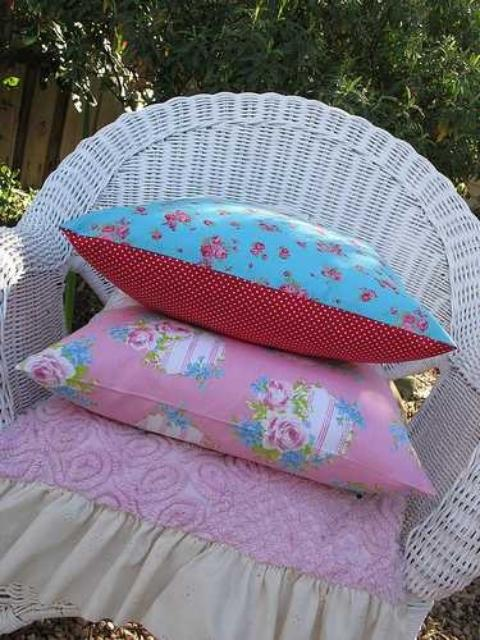pillow: (14, 295, 436, 499), (58, 195, 458, 372)
